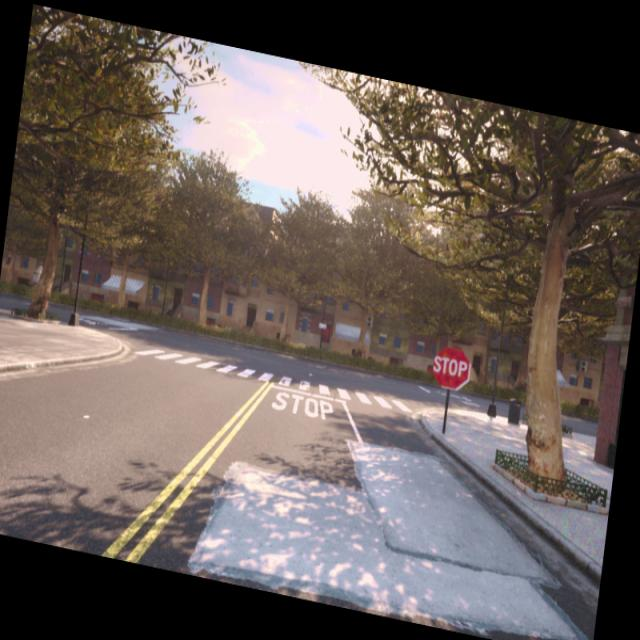stop sign: (430, 344, 472, 392), (432, 354, 468, 379)
